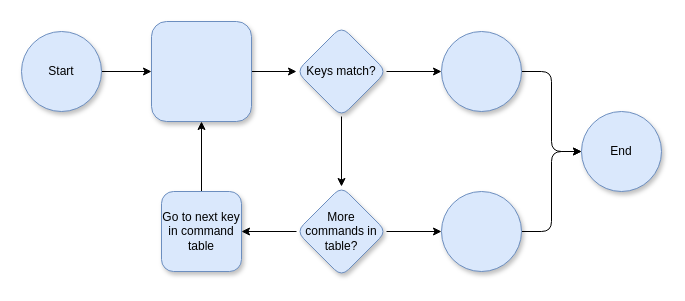
The diagram is 685 pixels wide and 301 high, and some of its shapes have lost their labels. Each missing label, with the centre of its shape:
Command not supported: pixel 482 232
Command Supported: pixel 482 72
Compare JSON key against current key of command table: pixel 202 72
